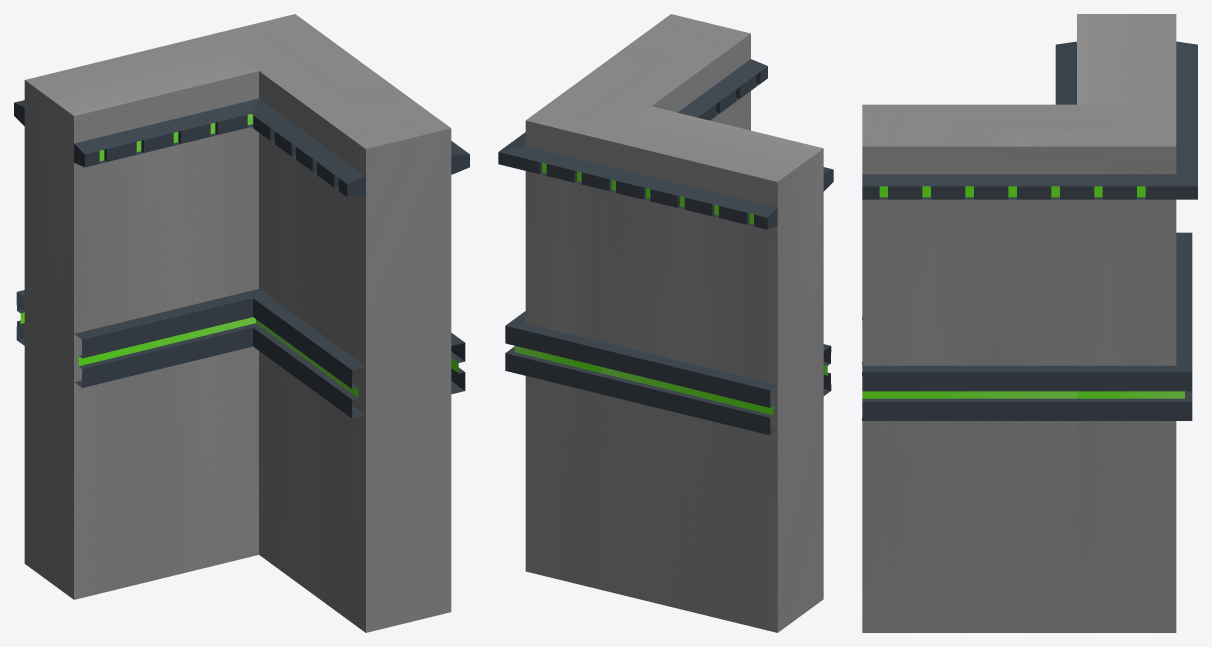
File: wall corner.fbx
3 views of the same model, side by side, from view 1: azimuth 30°, elevation 25°; view 2: azimuth 150°, elevation 25°; view 3: azimuth 270°, elevation 25° (orthographic). The views are drawn at different scales.
Visible parts, largest first — view 1: polySurface37; view 2: polySurface37; view 3: polySurface37.
Boxes of the visible parts, box(x1,y1,x2,y2) form: polySurface37: box(14, 14, 469, 632); polySurface37: box(498, 14, 833, 632); polySurface37: box(862, 14, 1197, 632).
Bounding box in the file's own units: 1.73 × 2.77 × 1.73.
